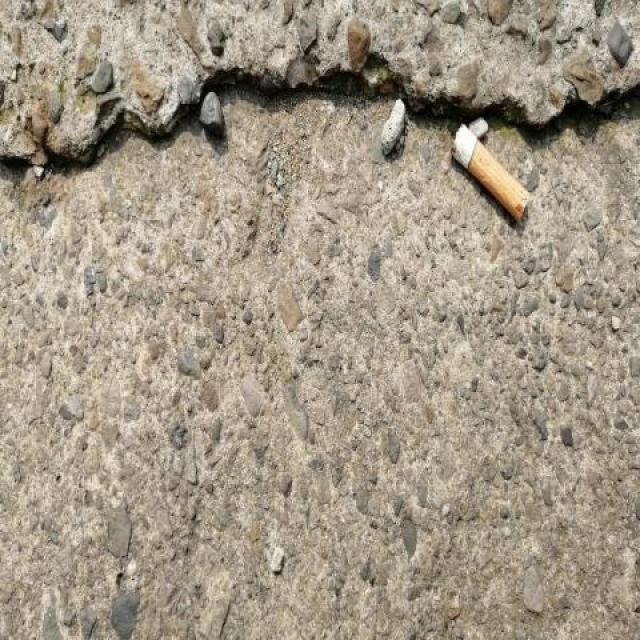non-organic waste: (448, 121, 532, 227)
